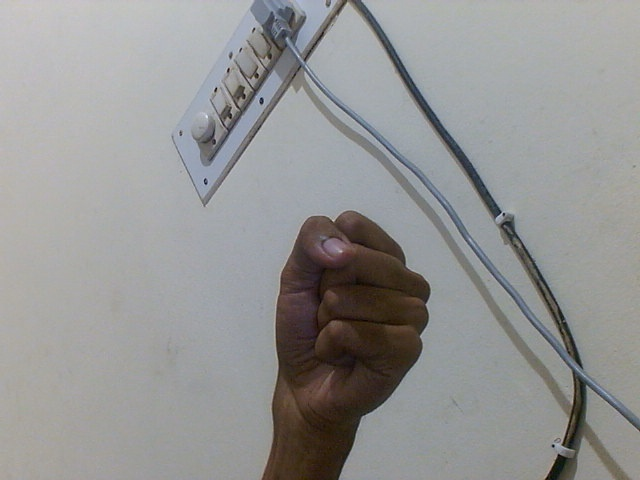hand: (266, 208, 436, 442)
